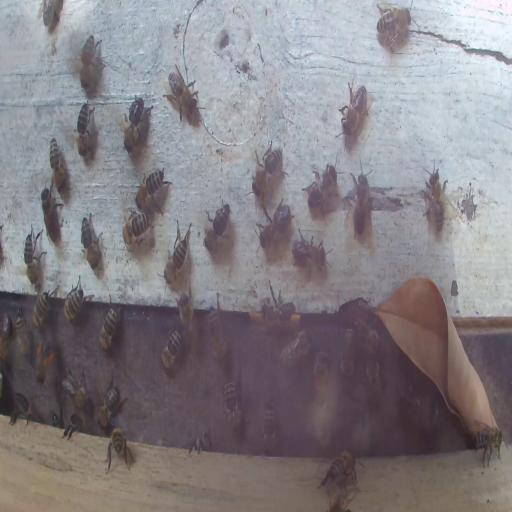nonpollenbee: (336, 75, 374, 141), (163, 64, 201, 124), (251, 140, 286, 204), (316, 450, 366, 491), (254, 200, 292, 251), (135, 164, 173, 214), (344, 165, 370, 238), (202, 198, 232, 260), (293, 230, 329, 281), (422, 162, 447, 235), (375, 5, 415, 50), (165, 219, 193, 281), (276, 324, 312, 370), (122, 94, 147, 158), (473, 421, 506, 469), (79, 34, 107, 90), (74, 99, 98, 164), (397, 382, 430, 429), (301, 164, 332, 214), (60, 366, 92, 414), (23, 222, 46, 288), (96, 379, 126, 429), (62, 274, 91, 324), (353, 314, 384, 359), (40, 183, 62, 245), (98, 296, 122, 352), (258, 296, 296, 330), (80, 214, 102, 272), (208, 295, 227, 361), (106, 425, 133, 471), (122, 210, 152, 248), (337, 327, 358, 379), (365, 356, 385, 410), (160, 326, 182, 374), (262, 399, 280, 456), (49, 138, 66, 194), (222, 378, 241, 428), (32, 290, 54, 330), (16, 308, 30, 357), (186, 429, 212, 454), (177, 292, 193, 332), (1, 310, 11, 364), (64, 413, 84, 439), (314, 352, 330, 382), (38, 0, 54, 28), (51, 409, 60, 426)
pollenbee: (35, 330, 55, 384)
